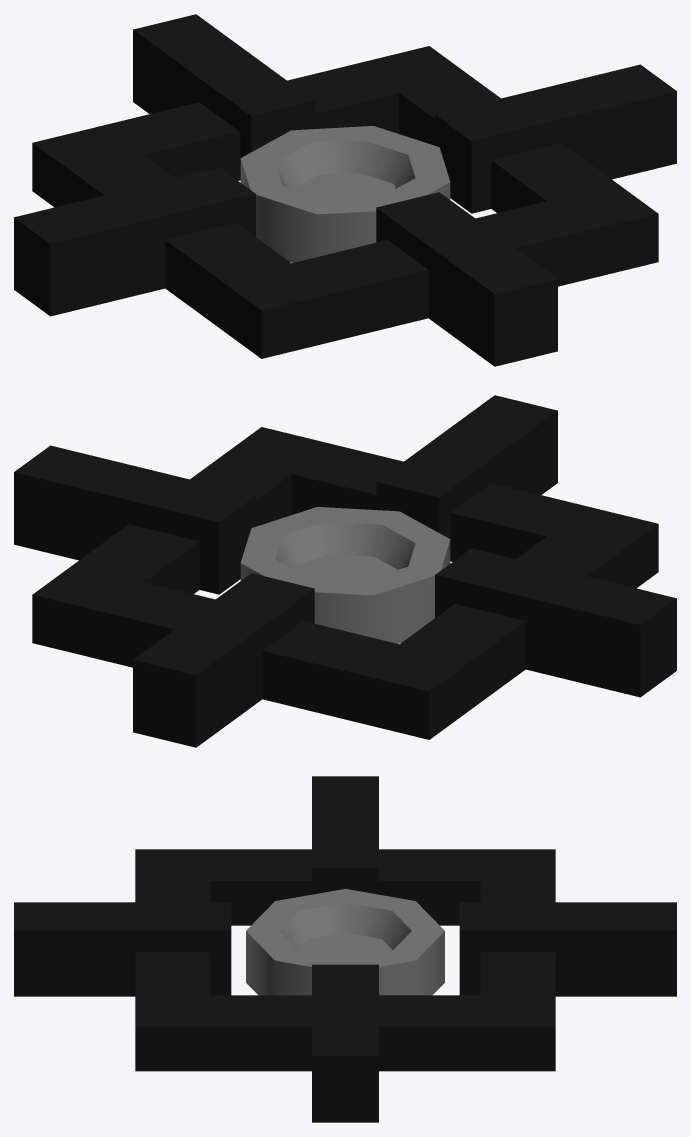
The model's file is Counter_Top_Burner_03.fbx.
3 views of the same model, one above another, from view 1: azimuth 30°, elevation 25°; view 2: azimuth 150°, elevation 25°; view 3: azimuth 270°, elevation 25° (orthographic). The views are drawn at different scales.
Visible parts, largest first — view 1: Counter_Top_Burner_03; view 2: Counter_Top_Burner_03; view 3: Counter_Top_Burner_03.
Boxes of the visible parts, x1,y1,x2,y2 form: Counter_Top_Burner_03: [14, 14, 676, 366]; Counter_Top_Burner_03: [14, 395, 676, 747]; Counter_Top_Burner_03: [14, 776, 676, 1122].
Bounding box in the file's own units: 73.63 × 8.14 × 73.63.
